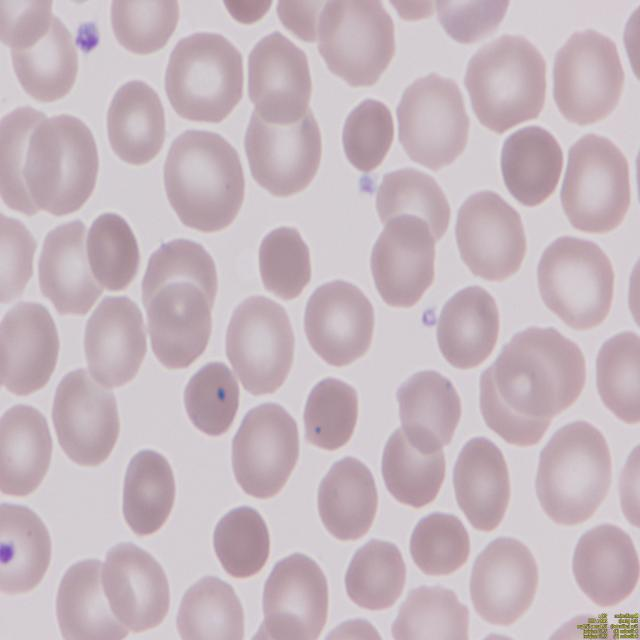Platelets: (72, 19, 100, 56)
RBC: (158, 124, 248, 234), (460, 31, 550, 132), (536, 422, 618, 530), (164, 31, 250, 132), (220, 292, 300, 398), (558, 131, 636, 237), (533, 236, 619, 332), (451, 185, 531, 286), (546, 29, 626, 130), (26, 110, 102, 216), (240, 103, 323, 200), (224, 402, 302, 505), (392, 73, 468, 174), (315, 0, 398, 92), (51, 366, 124, 469), (3, 12, 84, 104), (299, 278, 376, 374), (32, 214, 99, 320), (467, 532, 540, 628), (370, 212, 440, 310), (243, 29, 315, 124), (77, 290, 146, 389), (100, 540, 172, 634), (450, 434, 515, 533), (0, 300, 63, 402), (376, 426, 449, 514), (571, 518, 639, 612), (396, 365, 468, 451), (262, 549, 329, 640), (314, 456, 381, 546), (142, 287, 212, 373), (434, 285, 502, 372), (102, 80, 166, 169), (341, 534, 408, 616), (0, 403, 55, 502), (0, 496, 53, 597), (404, 507, 471, 585), (120, 453, 178, 543), (82, 212, 142, 297), (174, 574, 250, 640), (182, 357, 240, 439), (100, 0, 181, 57), (593, 333, 640, 426), (397, 581, 471, 640), (428, 0, 514, 46), (0, 210, 35, 308), (0, 0, 55, 46), (615, 434, 640, 534), (212, 0, 282, 28), (322, 616, 391, 640)
Spherocyte: (495, 122, 562, 208), (208, 502, 272, 582), (301, 372, 364, 453), (254, 224, 314, 301), (337, 96, 396, 174)
